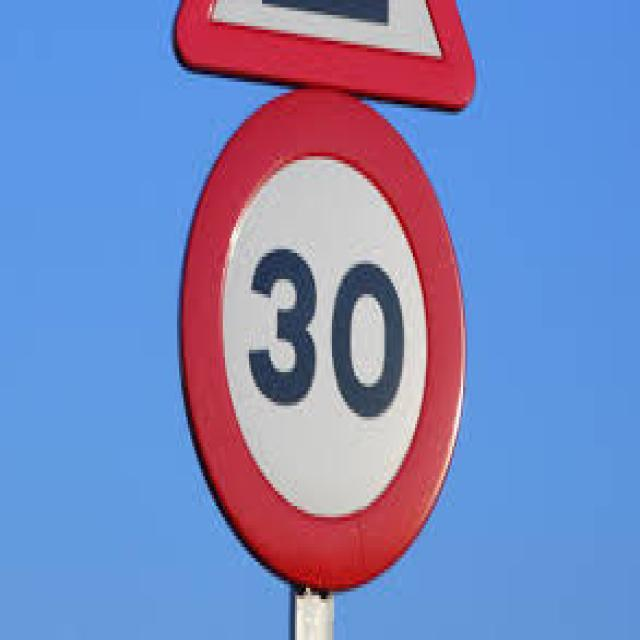Speed limit 30: (176, 83, 468, 593)
